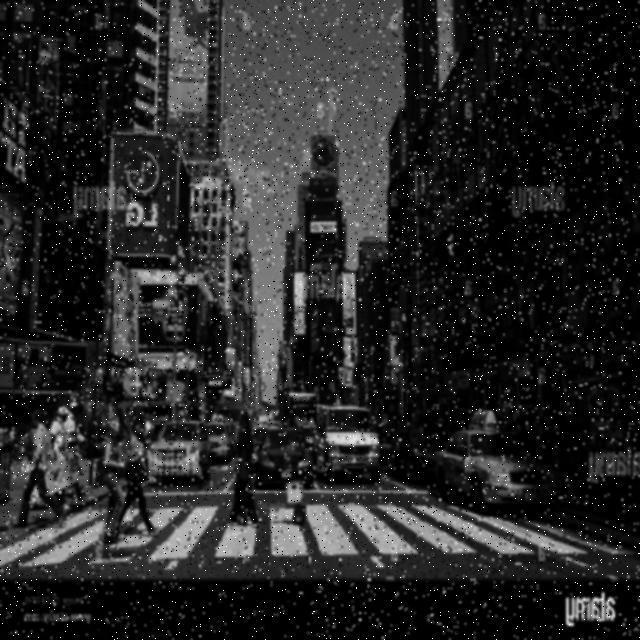Pedestrian crosswalk: (0, 483, 637, 583)
